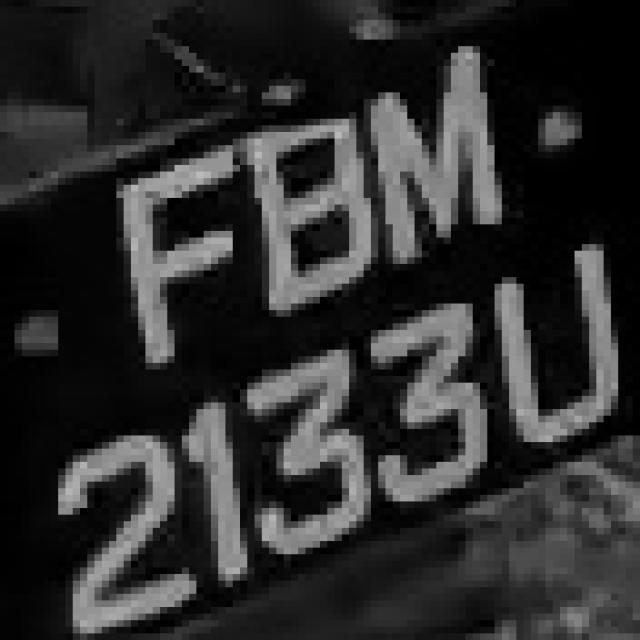1: (182, 383, 254, 607)
2: (14, 422, 211, 634)
3: (327, 310, 495, 521), (233, 356, 371, 574)
B: (240, 99, 378, 317)
F: (102, 132, 233, 369)
M: (356, 40, 516, 264)
U: (472, 224, 632, 456)
